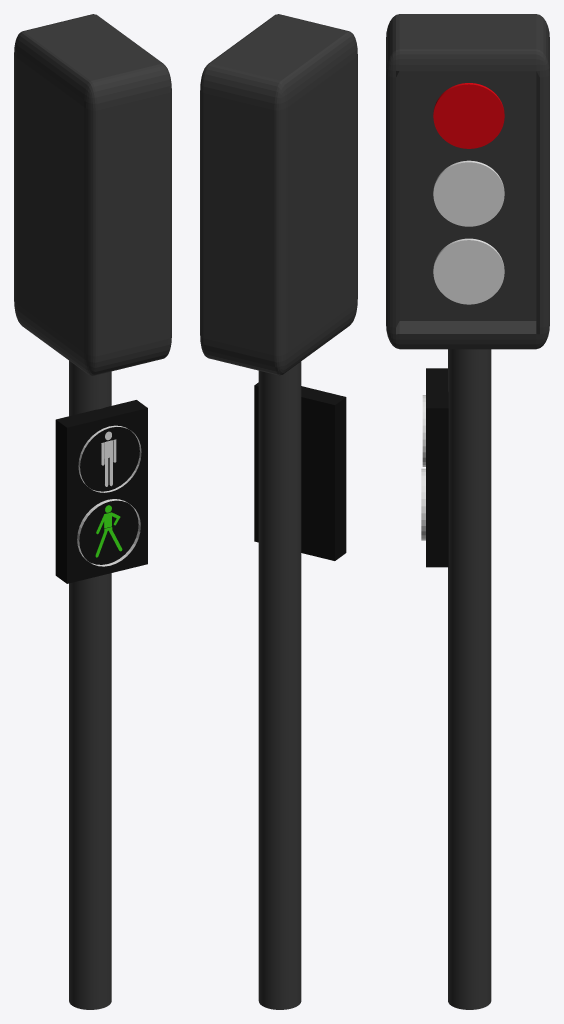
Rendered from trafficLightFinal.fbx.
The picture shows the model from 3 angles, left to right: view 1: azimuth 30°, elevation 25°; view 2: azimuth 150°, elevation 25°; view 3: azimuth 270°, elevation 25°; orthographic projection.
Visible parts, largest first — view 1: Cube, Cylinder, Cube.001, redLightFigure, Cylinder.004, greenLightFigure, Cylinder.006; view 2: Cube, Cylinder, Cube.001; view 3: Cube, Cylinder, Cube.001, Cylinder.001, Cylinder.003, Cylinder.002.
Part boxes in pixels (bbox=[...]): Cube: bbox=[14, 14, 171, 375]; Cylinder: bbox=[69, 360, 111, 1009]; Cube.001: bbox=[55, 400, 147, 583]; redLightFigure: bbox=[101, 431, 116, 486]; Cylinder.004: bbox=[77, 499, 140, 566]; greenLightFigure: bbox=[95, 505, 122, 557]; Cylinder.006: bbox=[78, 425, 141, 492]; Cube: bbox=[200, 14, 357, 375]; Cylinder: bbox=[258, 361, 301, 1009]; Cube.001: bbox=[254, 382, 346, 560]; Cube: bbox=[386, 14, 549, 349]; Cylinder: bbox=[448, 349, 491, 1009]; Cube.001: bbox=[426, 368, 448, 567]; Cylinder.001: bbox=[433, 238, 504, 304]; Cylinder.003: bbox=[433, 160, 504, 226]; Cylinder.002: bbox=[433, 83, 504, 148].
Bounding box in the file's own units: 220 × 2254 × 345.
